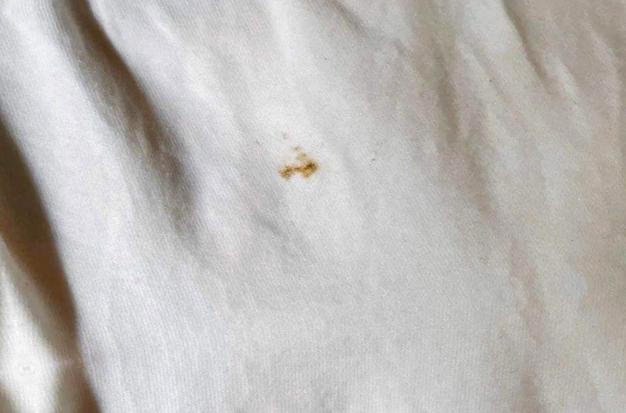stain: (272, 147, 319, 188)
